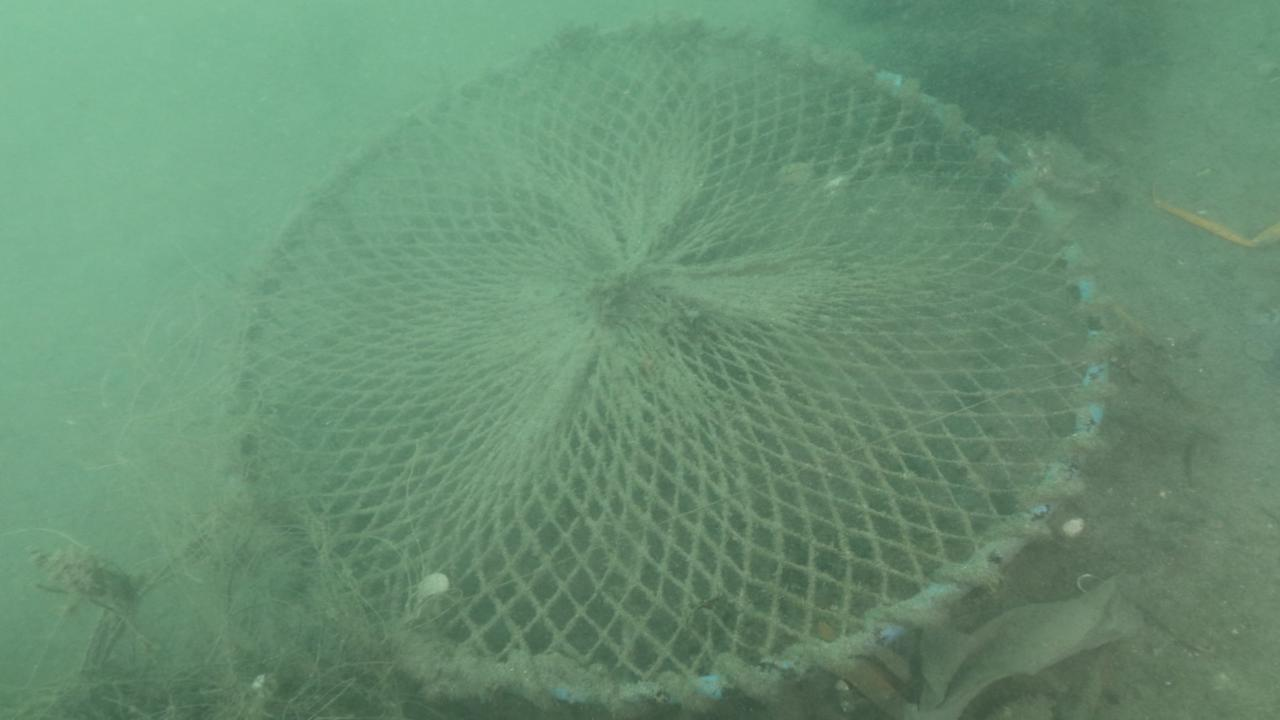circular fish trap: (228, 4, 1115, 720)
